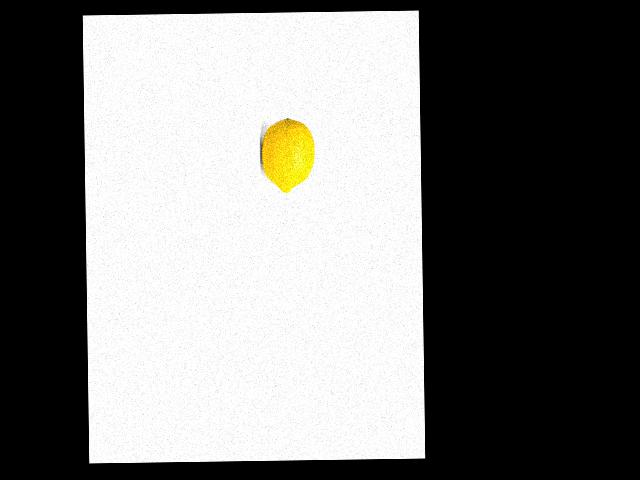lemon: (260, 114, 313, 195)
